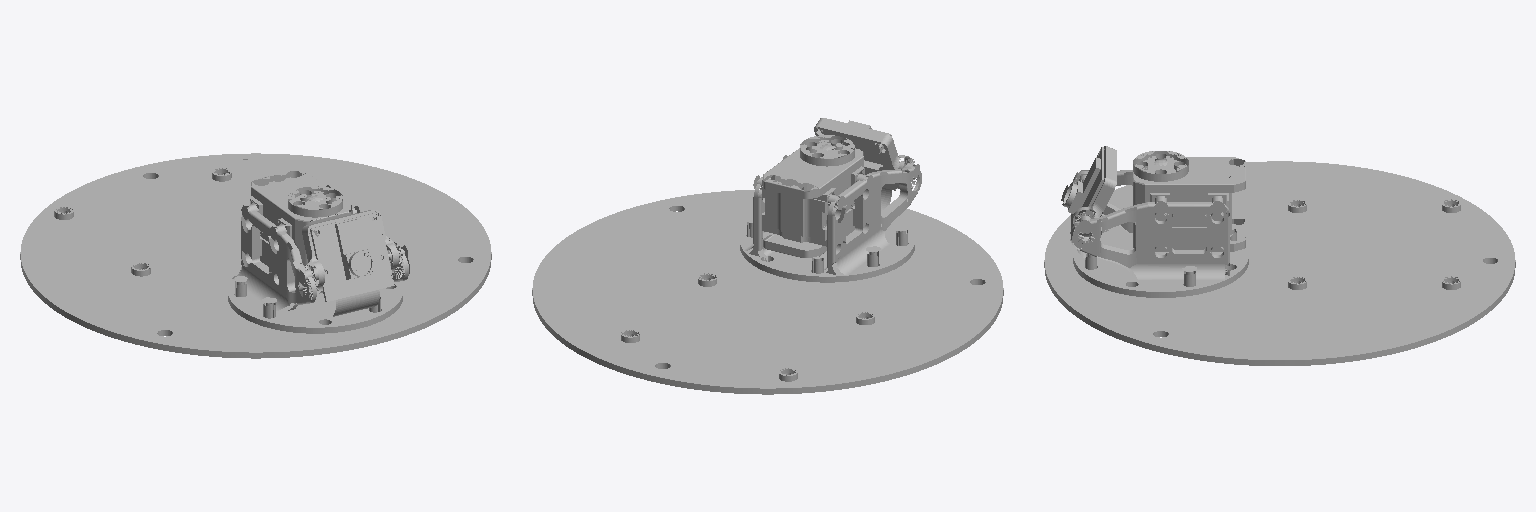
robot.urdf — poppy_ergo_jr:
<?xml version="1.0" ?>
<!-- =================================================================================== -->
<!-- |    This document was autogenerated by xacro from poppy_ergo_jr.urdf.xacro       | -->
<!-- |    EDITING THIS FILE BY HAND IS NOT RECOMMENDED                                 | -->
<!-- =================================================================================== -->
<robot name="poppy_ergo_jr">
  <link name="base_link">
    <visual>
      <origin rpy="0 0 0" xyz="0 0 0"/>
      <geometry>
        <mesh filename="meshes/base.stl"/>
      </geometry>
      <material name="">
        <color rgba="0.752941176470588 0.752941176470588 0.752941176470588 1"/>
      </material>
    </visual>
    <collision>
      <origin rpy="0 0 0" xyz="0 0.038 0.015"/>
      <geometry>
        <cylinder length="0.03" radius="0.08"/>
      </geometry>
    </collision>
  </link>
  <link name="long_U">
    <visual>
      <origin rpy="0 0 0" xyz="0 0 0"/>
      <geometry>
        <mesh filename="meshes/long_U.stl"/>
      </geometry>
      <material name="">
        <color rgba="0.752941176470588 0.752941176470588 0.752941176470588 1"/>
      </material>
    </visual>
    <collision>
      <origin rpy="0 0 0" xyz="0 0 0.01"/>
      <geometry>
        <cylinder length="0.02" radius="0.02"/>
      </geometry>
    </collision>
    <inertial>
      <mass value="10"/>
      <inertia ixx="0.03" ixy="0.0" ixz="0.0" iyy="0.03" iyz="0.0" izz="0.03"/>
    </inertial>
  </link>
  <joint name="m1" type="continuous">
    <origin rpy="0 0 0" xyz="0 0 0.0327993216120967"/>
    <parent link="base_link"/>
    <child link="long_U"/>
    <axis xyz="0 0 1"/>
  </joint>
  <link name="section_1">
    <visual>
      <origin rpy="0 1.5707963267949 0" xyz="0 0 0"/>
      <geometry>
        <mesh filename="meshes/section_1.stl"/>
      </geometry>
      <material name="">
        <color rgba="0.752941176470588 0.752941176470588 0.752941176470588 1"/>
      </material>
    </visual>
    <collision>
      <origin rpy="0 1.5707963267949 0" xyz="0.025 0 0"/>
      <geometry>
        <cylinder length="0.05" radius="0.02"/>
      </geometry>
    </collision>
    <inertial>
      <mass value="0.1"/>
      <inertia ixx="0.03" ixy="0.0" ixz="0.0" iyy="0.03" iyz="0.0" izz="0.03"/>
    </inertial>
  </link>
  <joint name="m2" type="continuous">
    <origin rpy="0 -1.5707963267949 0" xyz="0 0 0.0240006783879033"/>
    <parent link="long_U"/>
    <child link="section_1"/>
    <axis xyz="0 0 -1"/>
  </joint>
  <link name="section_2">
    <visual>
      <origin rpy="0 1.5707963267949 0" xyz="0 0 0"/>
      <geometry>
        <mesh filename="meshes/section_2.stl"/>
      </geometry>
      <material name="">
        <color rgba="0.752941176470588 0.752941176470588 0.752941176470588 1"/>
      </material>
    </visual>
    <collision>
      <origin rpy="0 1.5707963267949 0" xyz="0.025 0 0"/>
      <geometry>
        <cylinder length="0.05" radius="0.02"/>
      </geometry>
    </collision>
    <inertial>
      <mass value="0.1"/>
      <inertia ixx="0.03" ixy="0.0" ixz="0.0" iyy="0.03" iyz="0.0" izz="0.03"/>
    </inertial>
  </link>
  <joint name="m3" type="continuous">
    <origin rpy="0 0 0" xyz="0.054 0 0"/>
    <parent link="section_1"/>
    <child link="section_2"/>
    <axis xyz="0 0 -1"/>
  </joint>
  <link name="section_3">
    <visual>
      <origin rpy="0 3.14159268 0" xyz="0 0 0"/>
      <geometry>
        <mesh filename="meshes/section_3.stl"/>
      </geometry>
      <material name="">
        <color rgba="0.752941176470588 0.752941176470588 0.752941176470588 1"/>
      </material>
    </visual>
    <collision>
      <origin rpy="1.5707963267949 0 0" xyz="0 -0.025 0"/>
      <geometry>
        <cylinder length="0.05" radius="0.02"/>
      </geometry>
    </collision>
    <inertial>
      <mass value="0.1"/>
      <inertia ixx="0.03" ixy="0.0" ixz="0.0" iyy="0.03" iyz="0.0" izz="0.03"/>
    </inertial>
  </link>
  <joint name="m4" type="continuous">
    <origin rpy="0 -1.5707963267949 0" xyz="0.045 0 0"/>
    <parent link="section_2"/>
    <child link="section_3"/>
    <axis xyz="0 0 -1"/>
  </joint>
  <link name="section_4">
  <contact>
      <lateral_friction value="200.0"/>
      <rolling_friction value="200.0"/>
      <inertia_scaling value="3.0"/>
      <contact_cfm value="0.0"/>
      <contact_erp value="1.0"/>
    </contact>
    <visual>
      <origin rpy="0 -1.5707963267949 0" xyz="0 -0.058 0"/>
      <geometry>
        <mesh filename="meshes/section_4.stl"/>
      </geometry>
      <material name="">
        <color rgba="0.752941176470588 0.752941176470588 0.752941176470588 1"/>
      </material>
    </visual>
    <collision>
      <origin rpy="1.5707963267949 0 0" xyz="0 -0.035 0"/>
      <geometry>
        <cylinder length="0.06" radius="0.02"/>
        <box size="0.05 0.02 0.03"/>
      </geometry>
    </collision>
    <inertial>
      <mass value="0.1"/>
      <inertia ixx="0.03" ixy="0.0" ixz="0.0" iyy="0.03" iyz="0.0" izz="0.03"/>
    </inertial>
  </link>
  <joint name="m5" type="continuous">
    <origin rpy="0 -1.5707963267949 0" xyz="0 -0.048 0"/>
    <parent link="section_3"/>
    <child link="section_4"/>
    <axis xyz="0 0 1"/>
  </joint>
  <link name="fixed_tip">
  <contact>
      <lateral_friction value="200.0"/>
      <rolling_friction value="200.0"/>
      <inertia_scaling value="3.0"/>
      <contact_cfm value="0.0"/>
      <contact_erp value="1.0"/>
    </contact>
	<collision>
      <origin rpy="-1.5707963267949 0 0" xyz="-0.00 -0.015 0"/>
      <geometry>
        <box size="0.020 0.040 0.0005"/>
      </geometry>
    </collision>
  </link>
  <joint name="t7f" type="fixed">
    <origin rpy="-1.5707963267949 0 0" xyz="0 -0.11 0"/>
    <parent link="section_4"/>
    <child link="fixed_tip"/>
  </joint>
  <link name="section_5">
  <contact>
      <lateral_friction value="200.0"/>
      <rolling_friction value="200.0"/>
      <inertia_scaling value="3.0"/>
      <contact_cfm value="0.0"/>
      <contact_erp value="1.0"/>
    </contact>
    <visual>
      <origin rpy="0 0 0" xyz="0 0 0"/>
      <geometry>
        <mesh filename="meshes/gripper.stl"/>
      </geometry>
      <material name="">
        <color rgba="0.752941176470588 0.752941176470588 0.752941176470588 1"/>
      </material>
    </visual>
    <collision>
       <origin rpy="-1.5707963267949 0 0" xyz="-0.015 -0.05 0"/>
      <geometry>
		<box size="0.0005 0.020 0.04"/>
      </geometry>
    </collision>
	
    <inertial>
      <mass value="0.1"/>
      <inertia ixx="0.03" ixy="0.0" ixz="0.0" iyy="0.03" iyz="0.0" izz="0.03"/>
    </inertial>
  </link>
  <joint name="m6" type="continuous">
    <origin rpy="0 -1.5707963267949 0" xyz="0 -0.058 0"/>
    <axis xyz="0 0 -1"/>
    <parent link="section_4"/>
    <child link="section_5"/>
	<limit effort="3.1" upper="0.436332312999" lower="-1.57079632679" velocity="7.0"></limit>
  </joint>
  
  <link name="moving_tip"/>
  
  <joint name="t7m" type="fixed">
    <origin rpy="-1.5707963267949 0 0" xyz="0 -0.052 0"/>
    <parent link="section_5"/>
    <child link="moving_tip"/>
  </joint>
  <transmission name="trans_m1">
    <type>transmission_interface/SimpleTransmission</type>
    <joint name="m1">
      <hardwareInterface>hardware_interface/EffortJointInterface</hardwareInterface>
    </joint>
    <actuator name="m1_motor">
      <hardwareInterface>hardware_interface/EffortJointInterface</hardwareInterface>
      <mechanicalReduction>1</mechanicalReduction>
    </actuator>
  </transmission>
  <transmission name="trans_m2">
    <type>transmission_interface/SimpleTransmission</type>
    <joint name="m2">
      <hardwareInterface>hardware_interface/EffortJointInterface</hardwareInterface>
    </joint>
    <actuator name="m2_motor">
      <hardwareInterface>hardware_interface/EffortJointInterface</hardwareInterface>
      <mechanicalReduction>1</mechanicalReduction>
    </actuator>
  </transmission>
  <transmission name="trans_m3">
    <type>transmission_interface/SimpleTransmission</type>
    <joint name="m3">
      <hardwareInterface>hardware_interface/EffortJointInterface</hardwareInterface>
    </joint>
    <actuator name="m3_motor">
      <hardwareInterface>hardware_interface/EffortJointInterface</hardwareInterface>
      <mechanicalReduction>1</mechanicalReduction>
    </actuator>
  </transmission>
  <transmission name="trans_m4">
    <type>transmission_interface/SimpleTransmission</type>
    <joint name="m4">
      <hardwareInterface>hardware_interface/EffortJointInterface</hardwareInterface>
    </joint>
    <actuator name="m4_motor">
      <hardwareInterface>hardware_interface/EffortJointInterface</hardwareInterface>
      <mechanicalReduction>1</mechanicalReduction>
    </actuator>
  </transmission>
  <transmission name="trans_m5">
    <type>transmission_interface/SimpleTransmission</type>
    <joint name="m5">
      <hardwareInterface>hardware_interface/EffortJointInterface</hardwareInterface>
    </joint>
    <actuator name="m5_motor">
      <hardwareInterface>hardware_interface/EffortJointInterface</hardwareInterface>
      <mechanicalReduction>1</mechanicalReduction>
    </actuator>
  </transmission>
  <transmission name="trans_m6">
    <type>transmission_interface/SimpleTransmission</type>
    <joint name="m6">
      <hardwareInterface>hardware_interface/EffortJointInterface</hardwareInterface>
    </joint>
    <actuator name="m6_motor">
      <hardwareInterface>hardware_interface/EffortJointInterface</hardwareInterface>
      <mechanicalReduction>1</mechanicalReduction>
    </actuator>
  </transmission>
  <gazebo>
    <plugin filename="libgazebo_ros_control.so" name="gazebo_ros_control">
      <robotNamespace>/</robotNamespace>
    </plugin>
  </gazebo>
</robot>

--- Render facts (derived) ---
3 views of the same robot in one strip: view 1: azimuth 30°, elevation 25°; view 2: azimuth 150°, elevation 25°; view 3: azimuth 270°, elevation 25° (orthographic).
Model poppy_ergo_jr with 9 links and 8 joints (6 continuous, 2 fixed), rooted at base_link, posed all joints at 0.
Links seen in each view (by area): view 1: base_link; view 2: base_link; view 3: base_link.
Link boxes in pixels (x1=…): base_link: x1=20, y1=153, x2=491, y2=358; base_link: x1=532, y1=118, x2=1003, y2=394; base_link: x1=1044, y1=146, x2=1515, y2=365.
Size in the robot's own frame: 0.15 by 0.15 by 0.037 metres.
1 mesh visuals loaded from 7 distinct referenced files (1 binary STL); not drawn: 6 (reference not matched to a file when rendering).